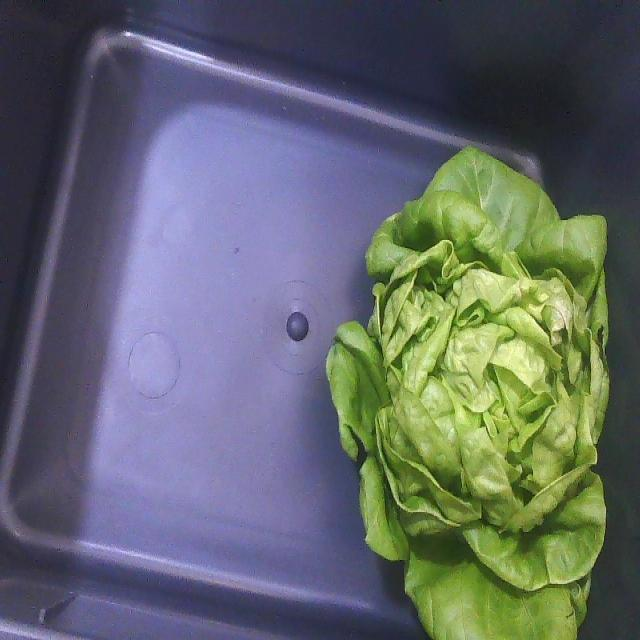lettuce: (326, 148, 609, 639)
